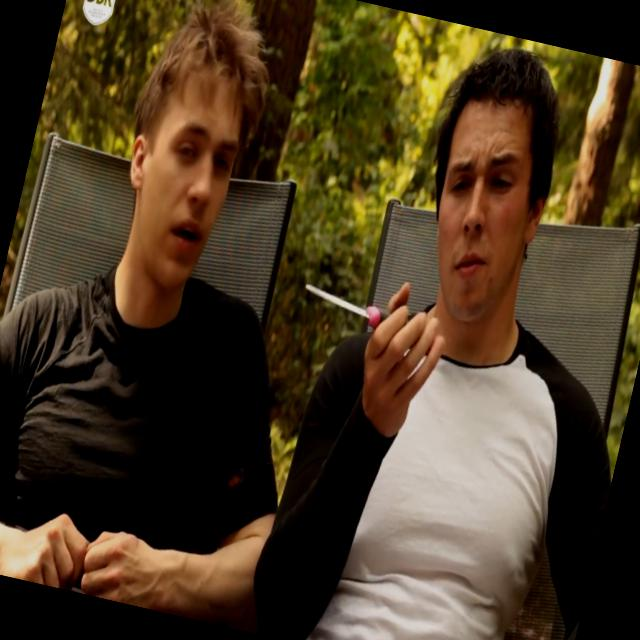knife: (277, 259, 458, 387)
